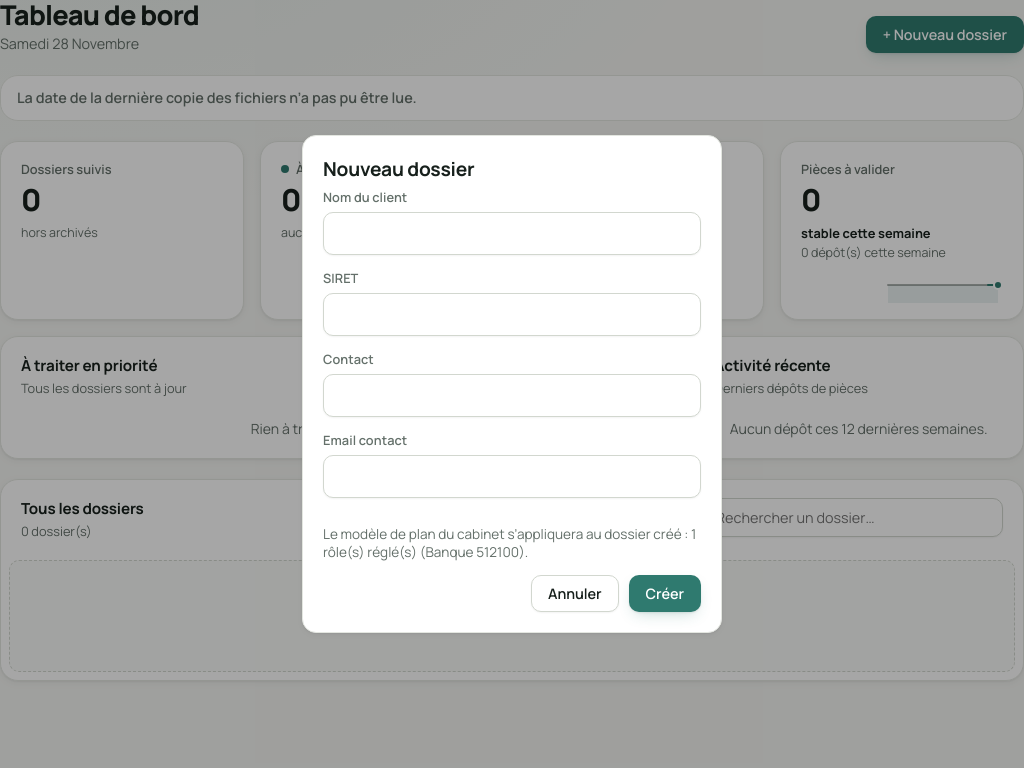
Test: « Nouveau dossier » et le modèle de plan du cabinet › le modèle refusé par la base : la fenêtre le dit, le dossier créé reste et la liste se relit
Step 1. Type "Cabinet Martin" into the field labelled "Nom du client" → (512, 233), box [323, 212, 701, 255]
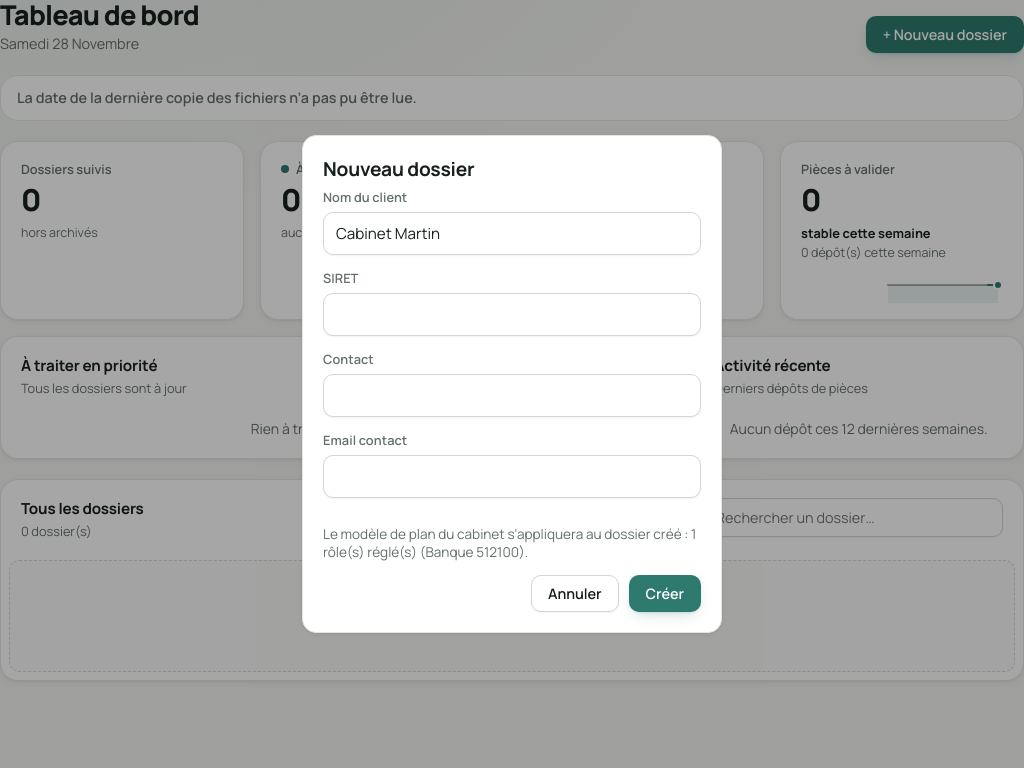
Step 2. Click the button "Créer" → (665, 594), box [628, 575, 701, 612]
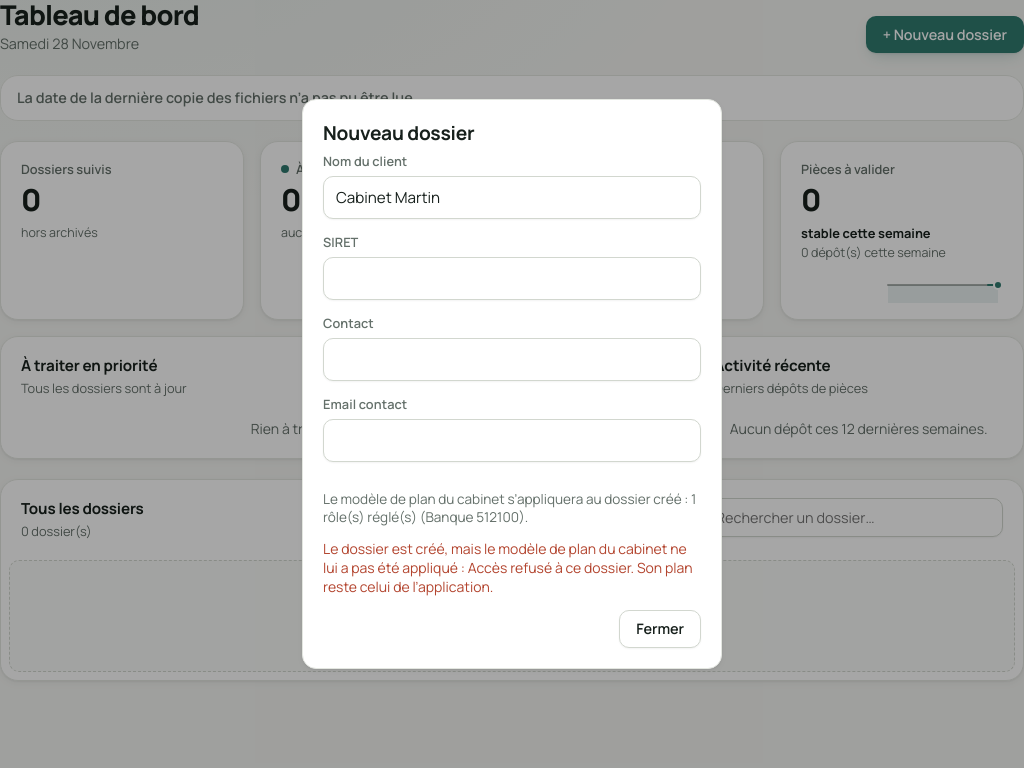
Result: the text "Le dossier est créé, mais le modèle de plan du cabinet ne lui a pas été appliqué : Accès refusé à ce dossier. Son plan r" is shown at [323, 540, 693, 596]
Result: the button "Créer" is gone
Result: the button "Fermer" is shown at [619, 610, 701, 648]
